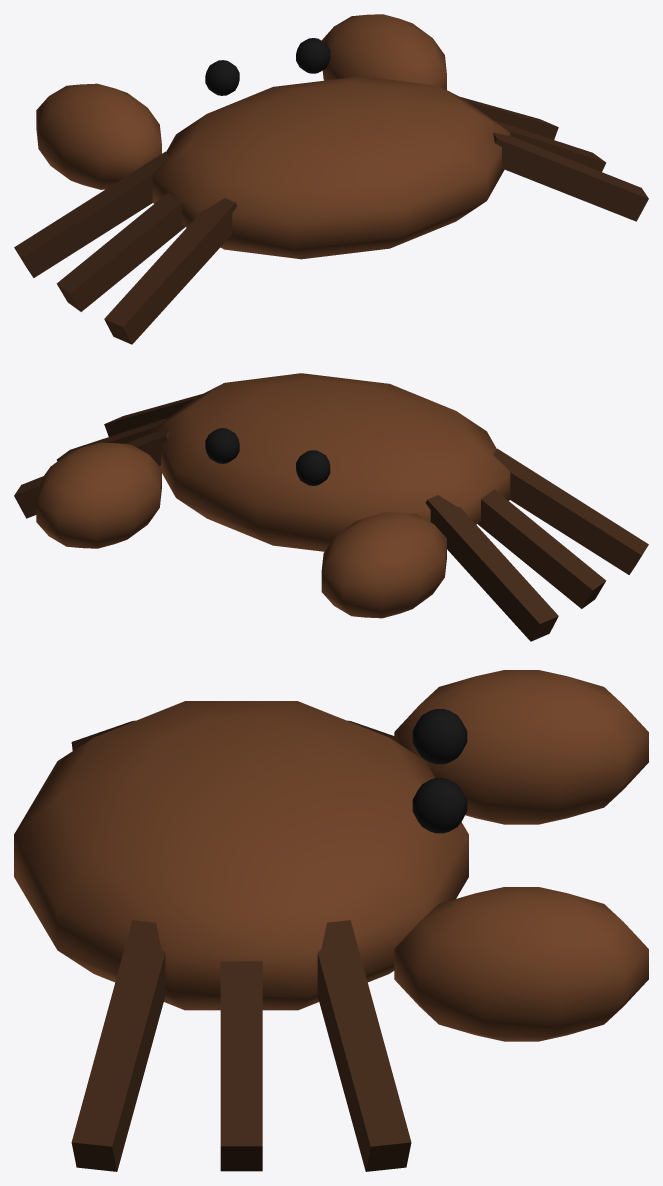
File: crab.glb
3 renders of one model, top to bottom at view 1: azimuth 30°, elevation 25°; view 2: azimuth 150°, elevation 25°; view 3: azimuth 270°, elevation 25°, orthographic. The views are drawn at different scales.
Parts seen in each view (by area): view 1: crab; view 2: crab; view 3: crab.
Part boxes in pixels (left/top/right/bottom): crab: left=14, top=14, right=648, bottom=344; crab: left=14, top=373, right=648, bottom=641; crab: left=14, top=670, right=648, bottom=1171.
Bounding box in the file's own units: 0.4149 × 0.1087 × 0.2721.
